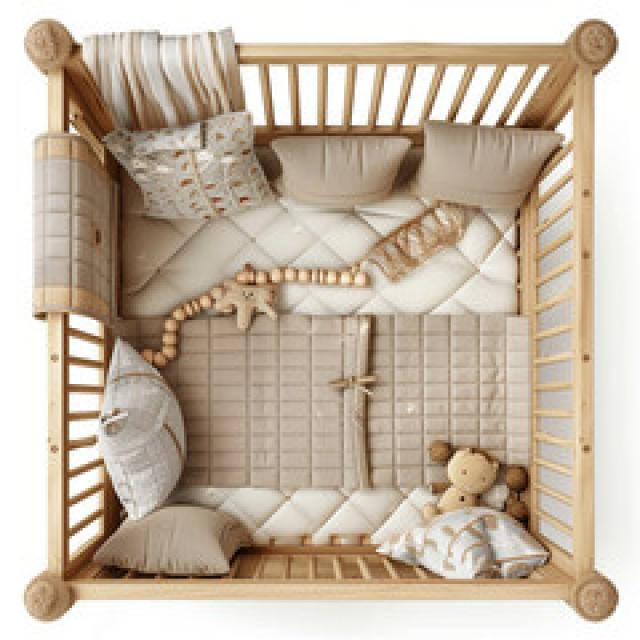crib: (19, 14, 621, 622)
